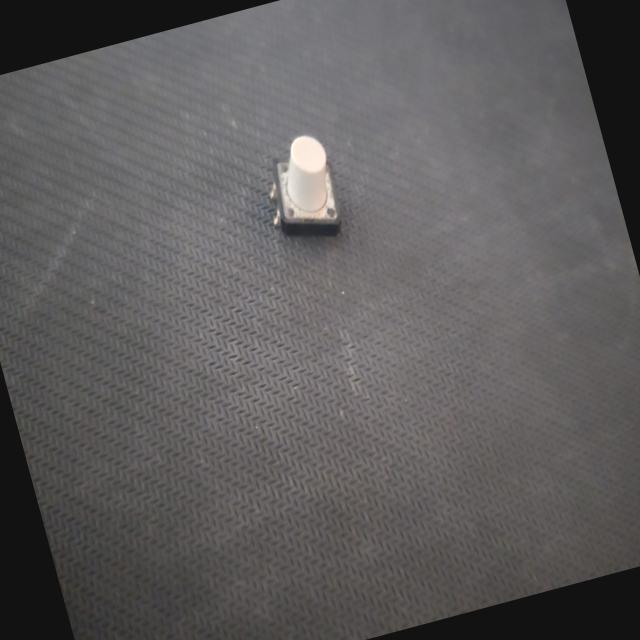switch: (245, 118, 358, 255)
